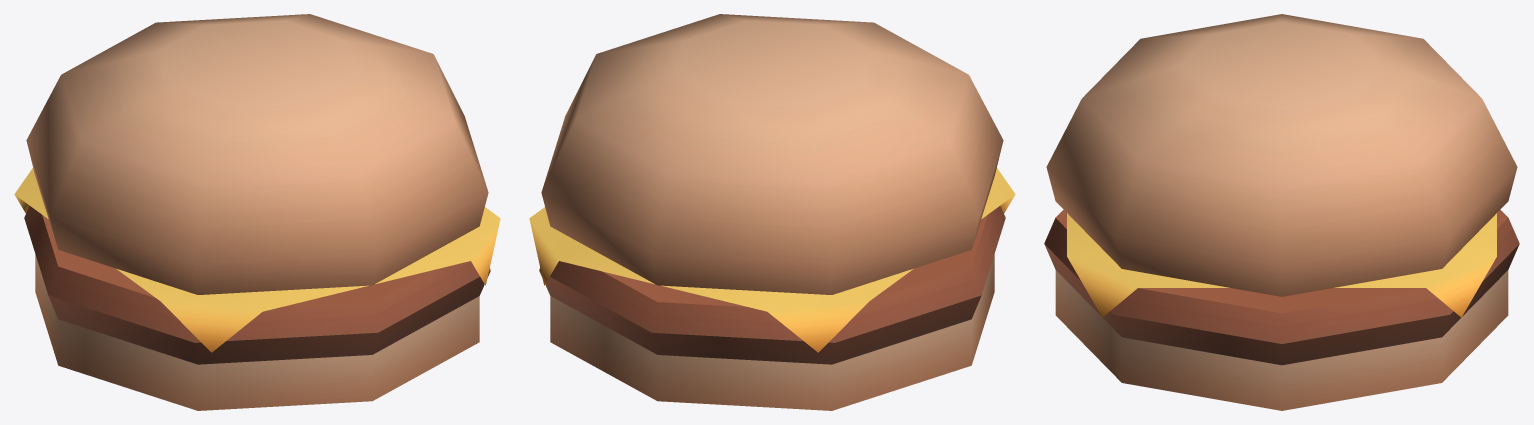
Rendered from burger-cheese.glb.
3 renders of one model, left to right at view 1: azimuth 30°, elevation 25°; view 2: azimuth 150°, elevation 25°; view 3: azimuth 270°, elevation 25°, orthographic.
Parts seen in each view (by area): view 1: bun-top, patty, bun-bottom, cheese; view 2: bun-top, patty, bun-bottom, cheese; view 3: bun-top, patty, bun-bottom, cheese.
Part boxes in pixels (left/top/right/bottom): bun-top: left=26, top=14, right=488, bottom=294; patty: left=24, top=206, right=490, bottom=364; bun-bottom: left=35, top=254, right=479, bottom=410; cheese: left=14, top=168, right=500, bottom=352; bun-top: left=541, top=14, right=1003, bottom=294; patty: left=539, top=206, right=1005, bottom=364; bun-bottom: left=550, top=254, right=994, bottom=410; cheese: left=529, top=168, right=1015, bottom=352; bun-top: left=1046, top=14, right=1517, bottom=296; patty: left=1044, top=209, right=1519, bottom=365; bun-bottom: left=1055, top=270, right=1508, bottom=410; cheese: left=1067, top=213, right=1496, bottom=317.
Size of the model in its own units: 0.378 by 0.22 by 0.378.
Materials: 1 (1 with a texture image).
